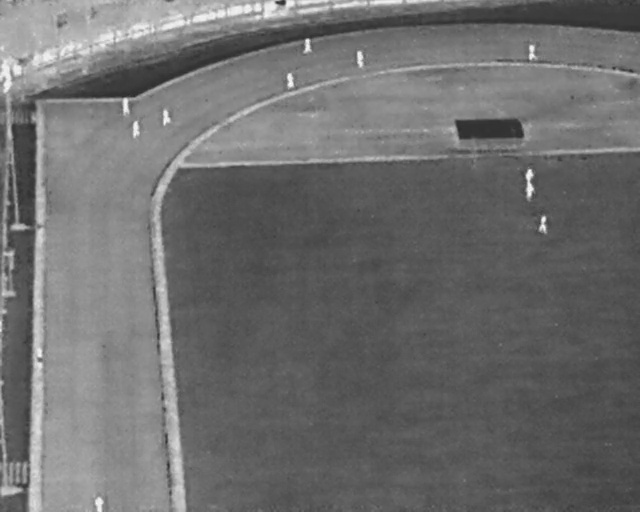Person: (538, 215, 548, 235), (525, 182, 535, 202), (162, 108, 172, 127), (122, 96, 131, 117), (36, 345, 44, 368), (528, 44, 538, 62), (93, 496, 104, 512), (286, 71, 295, 90), (525, 168, 535, 185), (132, 121, 141, 139), (303, 38, 312, 55), (356, 50, 364, 69)
